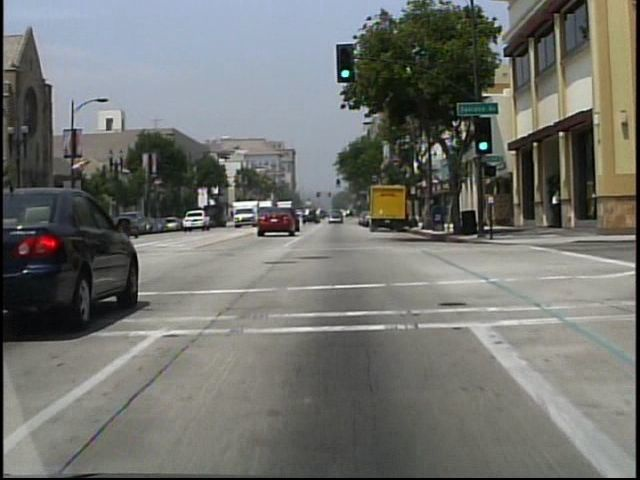person: (550, 191, 562, 229)
